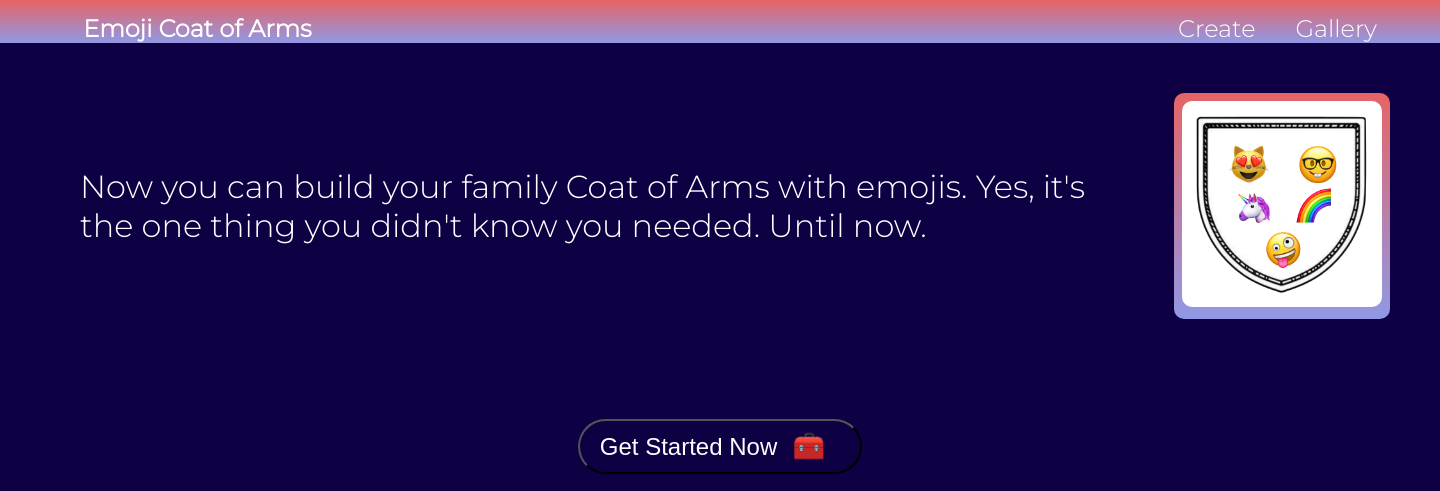
Scenario: Basic render and navigation › Should go to Gallery using Gallery NavBar link -- gallery empty
The image size is (1440, 491).
Click the link "Gallery".
click(1337, 29)  # box [1296,14,1377,43]
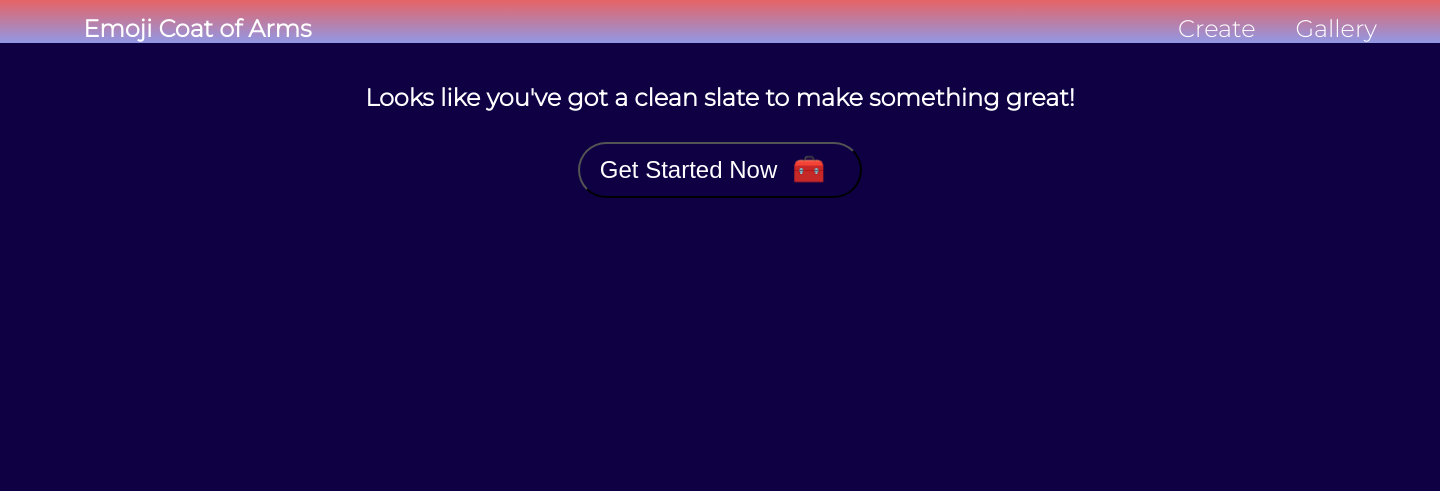
Expected: the button with class "gallery-start-btn" is shown, [578,142,862,198]
Result: the heading with class "gallery-feedback" shows "clean slate to make something great" at [365,83,1075,112]
